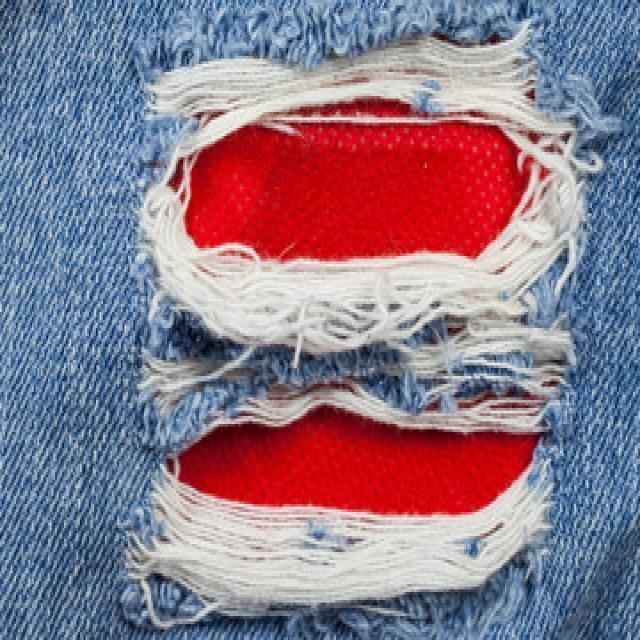Hole: (121, 20, 601, 628), (142, 22, 600, 352), (122, 385, 553, 629)
